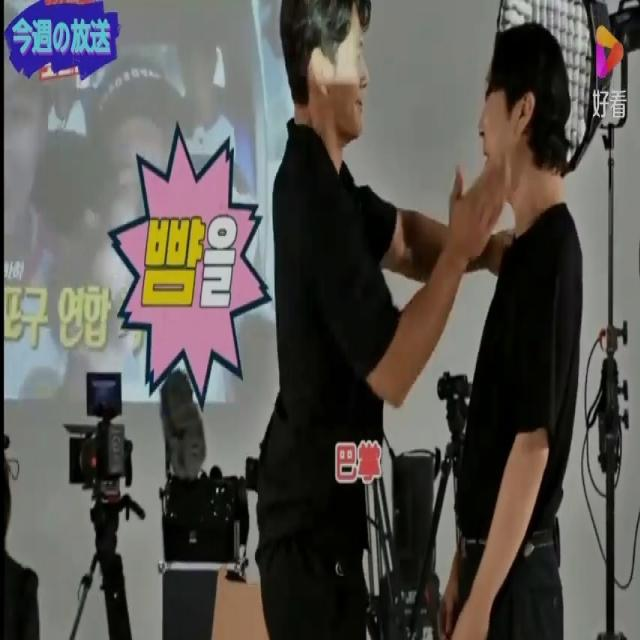fight: (201, 0, 617, 639)
